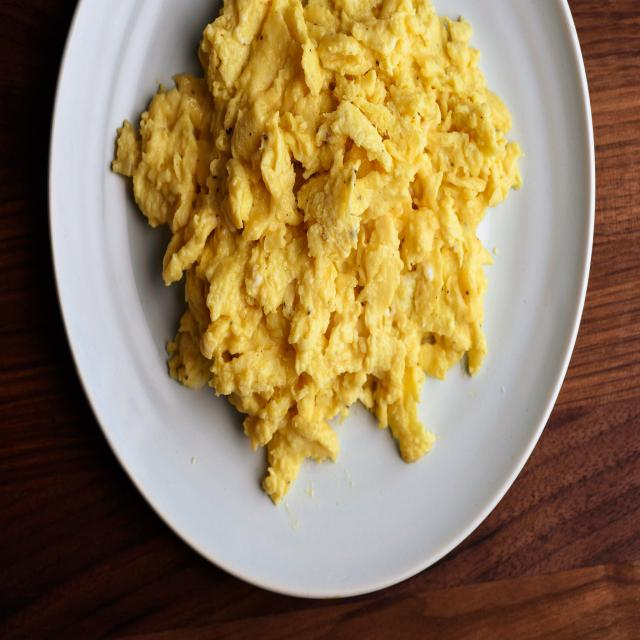eggs: (154, 4, 502, 452)
